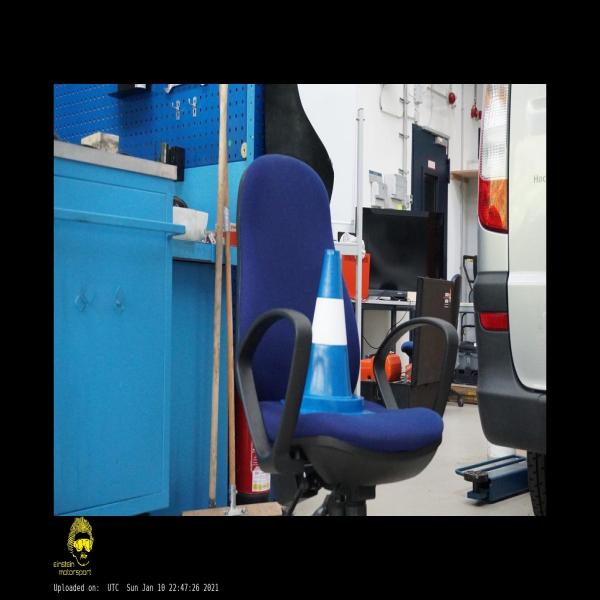blue_cone: (299, 249, 375, 413)
